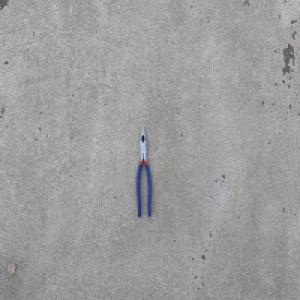Pliers: (135, 125, 152, 218)
